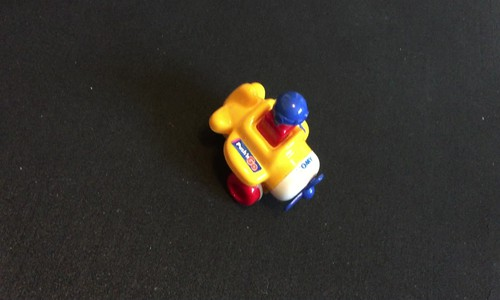toy: (203, 77, 337, 218)
